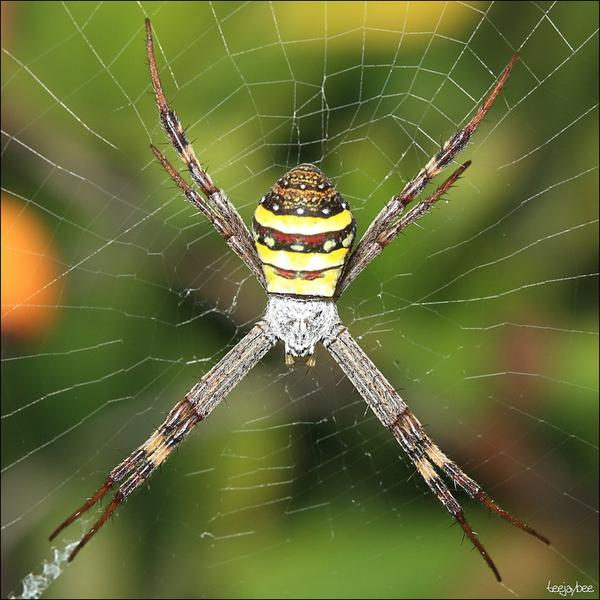St Andrew's Cross Spider: (69, 21, 541, 576)
